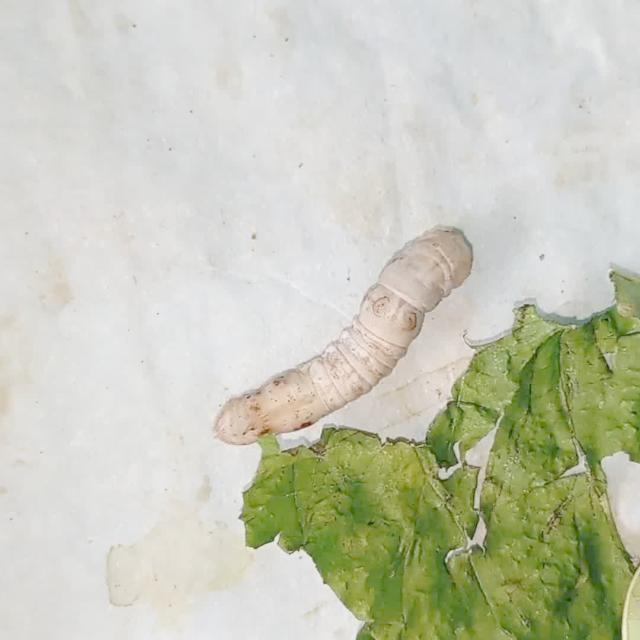Grasserie: (209, 209, 474, 456)
